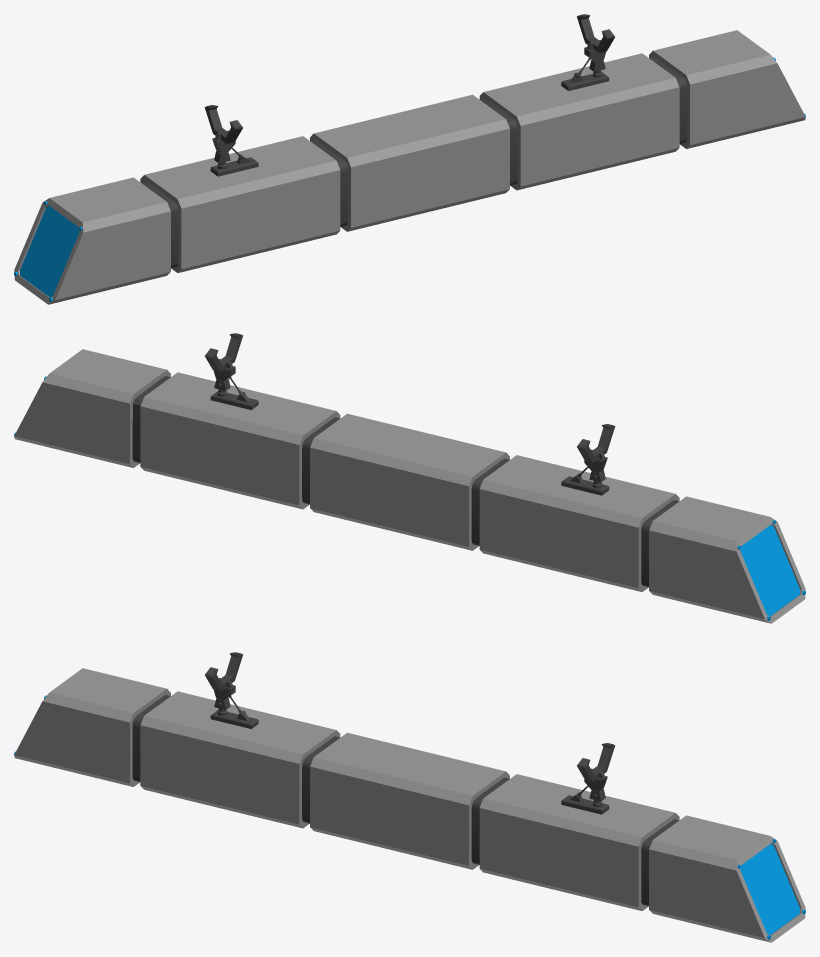
File: KF_Train_Low_Poly.fbx
The picture shows the model from 3 angles, top to bottom: view 1: azimuth 30°, elevation 25°; view 2: azimuth 150°, elevation 25°; view 3: azimuth 330°, elevation 25°; orthographic projection.
Parts seen in each view (by area): view 1: KF_Train_Low_Poly; view 2: KF_Train_Low_Poly; view 3: KF_Train_Low_Poly.
Boxes of the visible parts, x1,y1,x2,y2 form: KF_Train_Low_Poly: (14,14,805,304); KF_Train_Low_Poly: (14,333,805,623); KF_Train_Low_Poly: (14,652,805,942).
Size of the model in its own units: 8272 by 1377 by 776.
